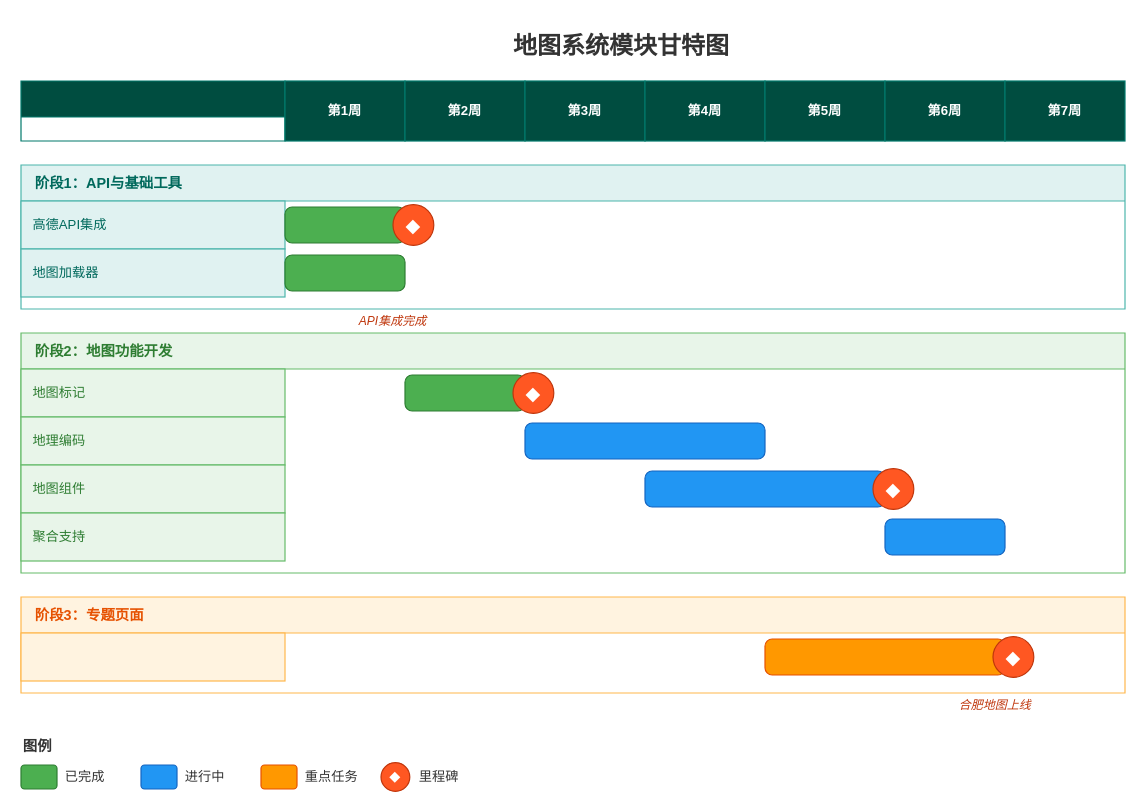
The diagram is 1146 pixels wide and 812 high, and some of its shapes have lost their labels. The centre of each missing label's shape, as x and y in pixels:
"任务" goes at point 152,110.
"合肥地图页面" goes at point 152,656.
